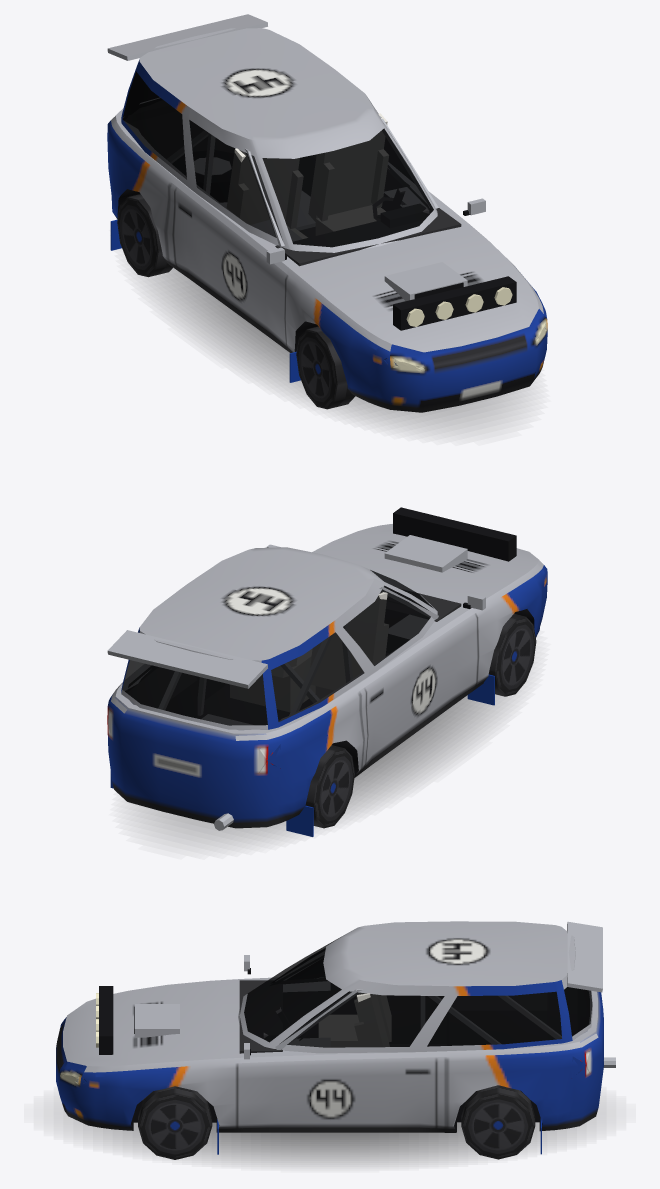
Rendered from tormenta.glb.
3 views of the same model, one above another, from view 1: azimuth 30°, elevation 25°; view 2: azimuth 150°, elevation 25°; view 3: azimuth 270°, elevation 25° (orthographic). The views are drawn at different scales.
Visible parts, largest first — view 1: Carroceria, Interior, Capo_malha, Porta_D_malha, Sombra, Roda_DD, Roda_TD, Tampa_malha, Porta_TD_malha, Porta_E_malha; view 2: Carroceria, Tampa_malha, Porta_D_malha, Interior, Capo_malha, Sombra, Roda_TD, Roda_DD, Porta_TD_malha; view 3: Carroceria, Porta_E_malha, Interior, Capo_malha, Sombra, Tampa_malha, Roda_TE, Roda_DE, Porta_TE_malha, Porta_D_malha.
Boxes of the visible parts, left/top/right/bottom form: Carroceria: left=107, top=28, right=547, bottom=412; Interior: left=125, top=100, right=461, bottom=266; Capo_malha: left=305, top=234, right=543, bottom=351; Porta_D_malha: left=173, top=112, right=289, bottom=344; Sombra: left=147, top=268, right=521, bottom=430; Roda_DD: left=296, top=326, right=355, bottom=409; Roda_TD: left=117, top=194, right=172, bottom=277; Tampa_malha: left=107, top=14, right=267, bottom=119; Porta_TD_malha: left=165, top=108, right=196, bottom=263; Porta_E_malha: left=367, top=97, right=485, bottom=215; Carroceria: left=107, top=531, right=547, bottom=836; Tampa_malha: left=107, top=630, right=268, bottom=809; Porta_D_malha: left=344, top=579, right=485, bottom=763; Interior: left=125, top=586, right=461, bottom=724; Capo_malha: left=317, top=507, right=543, bottom=599; Sombra: left=138, top=695, right=510, bottom=844; Roda_TD: left=305, top=745, right=354, bottom=828; Roda_DD: left=488, top=614, right=536, bottom=696; Porta_TD_malha: left=338, top=613, right=367, bottom=768; Carroceria: left=56, top=921, right=615, bottom=1154; Porta_E_malha: left=237, top=980, right=436, bottom=1126; Interior: left=142, top=951, right=589, bottom=1100; Capo_malha: left=68, top=982, right=222, bottom=1072; Sombra: left=63, top=1109, right=596, bottom=1164; Tampa_malha: left=561, top=921, right=603, bottom=1104; Roda_TE: left=461, top=1085, right=535, bottom=1159; Roda_DE: left=138, top=1086, right=212, bottom=1159; Porta_TE_malha: left=436, top=986, right=446, bottom=1127; Porta_D_malha: left=244, top=948, right=325, bottom=982.
Size of the model in its own units: 2.42 by 1.52 by 5.28.
Materials: 14 (5 with a texture image).
